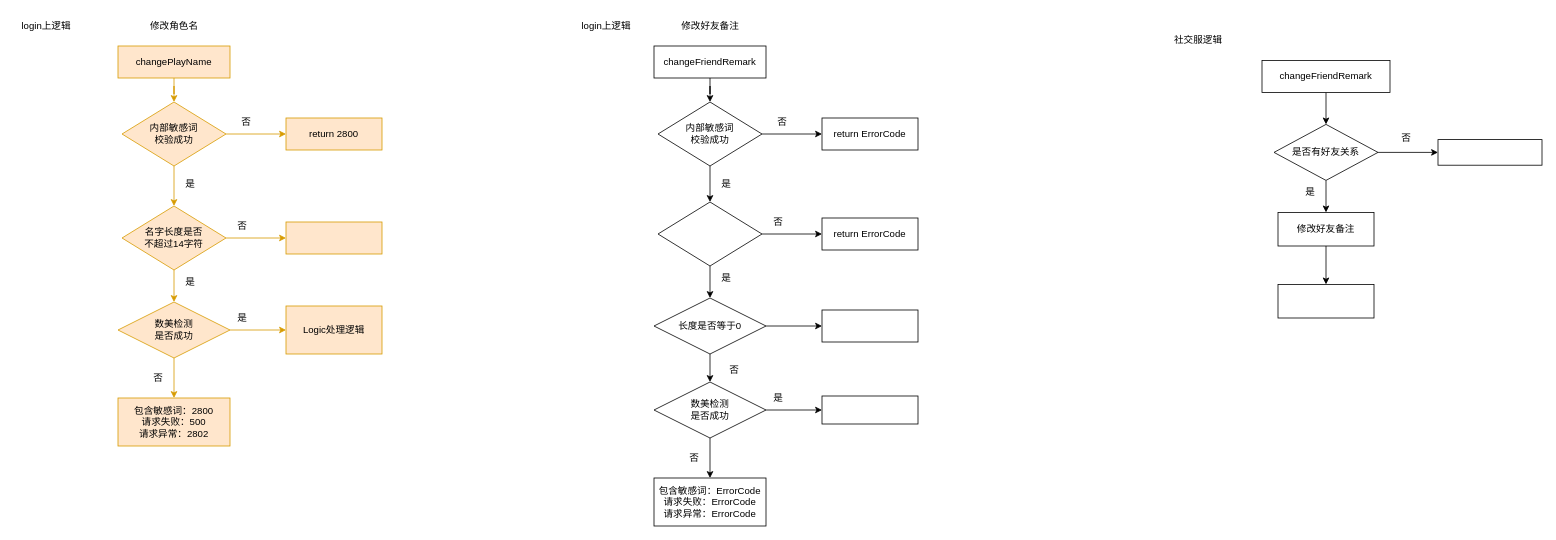
Image size: 1556x540. Some labels were removed from this diagram. Here are the shapes that lost their labels. From the top down, the centre of each, then its label:
At [1489,152]: "ErrorCode".
At [333,237]: "return 2805".
At [709,233]: "名字长度是否 不超过X字符".
At [1325,301]: "返回修改成功".
At [869,325]: "清除备注名 社交服处理逻辑".
At [869,409]: "社交服处理逻辑".
